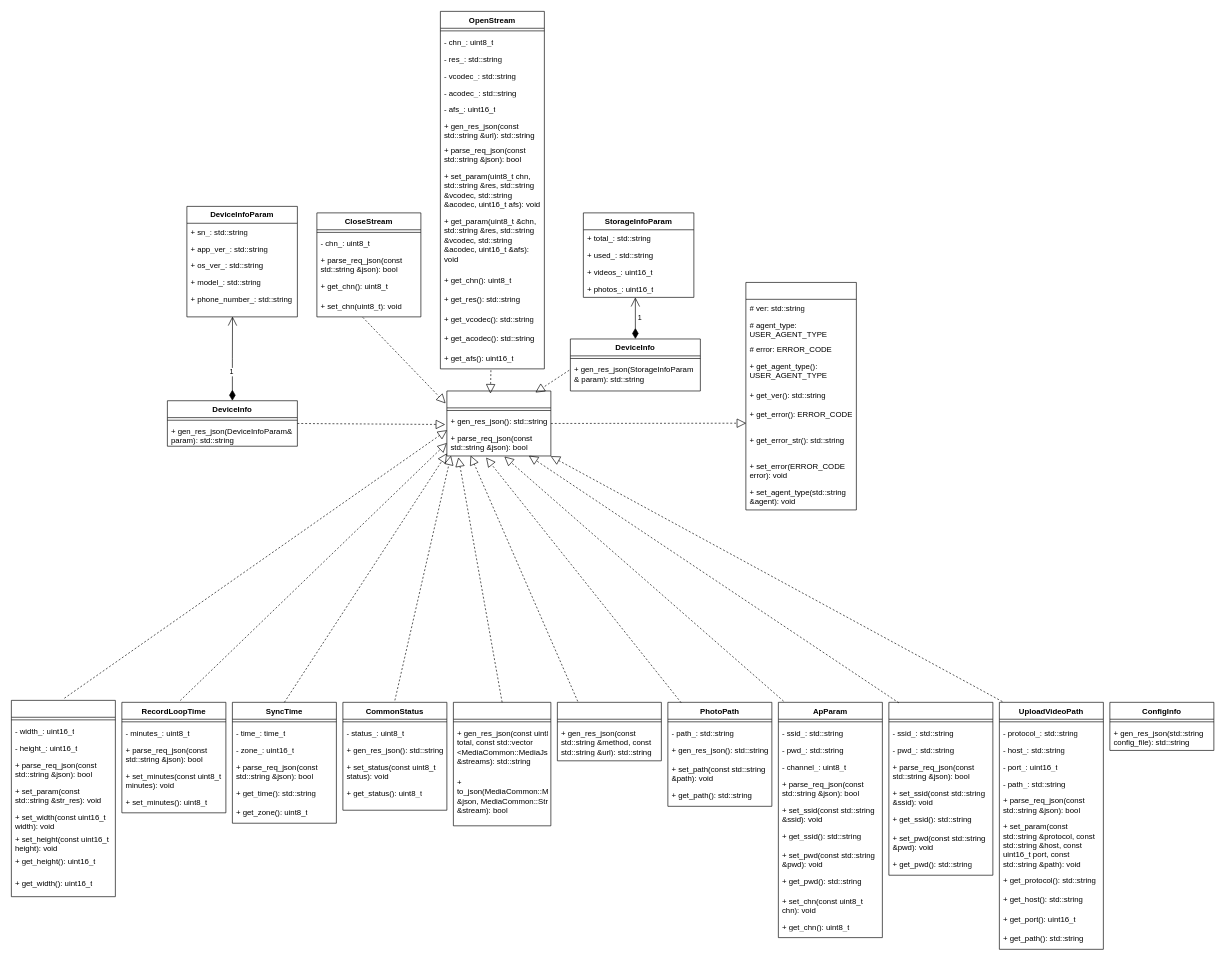
Some shapes in this 1225 by 963 pixel diagram are drawn without their labels. Each missing label, with the box of its shape:
CommonReq: (446, 390, 551, 456)
MobileReqBase: (745, 282, 856, 510)
RecordResolution: (11, 700, 115, 897)
StorageUrl: (557, 702, 661, 761)
StreamInfo: (453, 702, 551, 826)
WifiParam: (888, 702, 993, 875)
